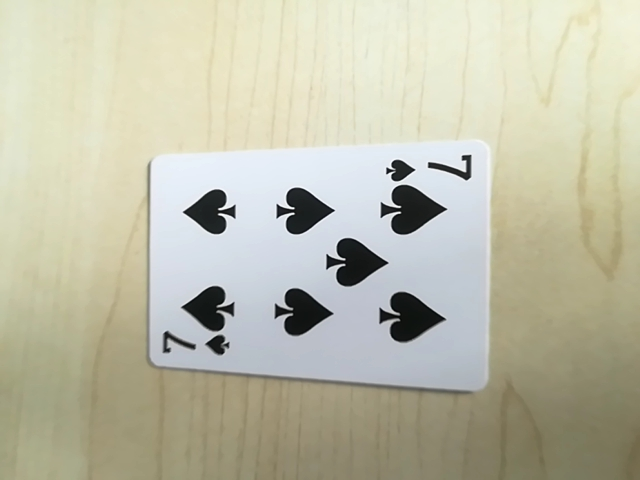ht 7: (380, 150, 477, 185), (155, 328, 234, 363)
